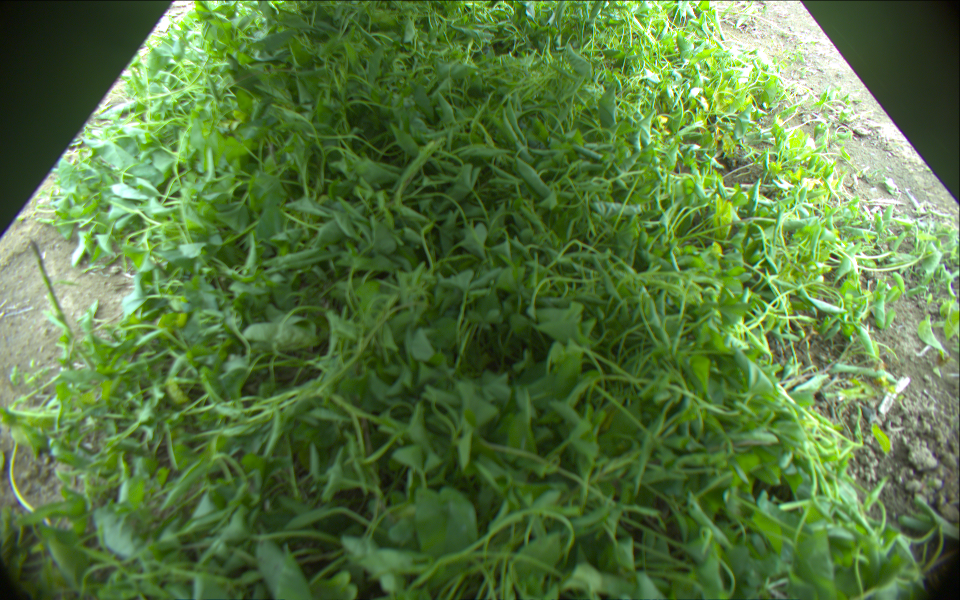aspa: (29, 240, 88, 369)
